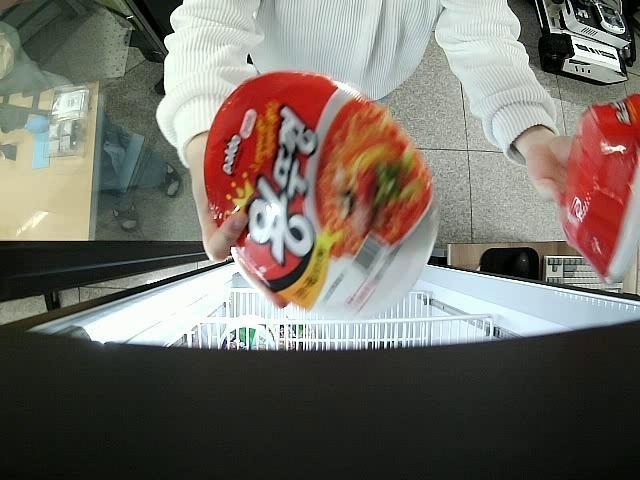10_wangTtukkeong: (204, 72, 438, 316), (559, 92, 640, 288)
